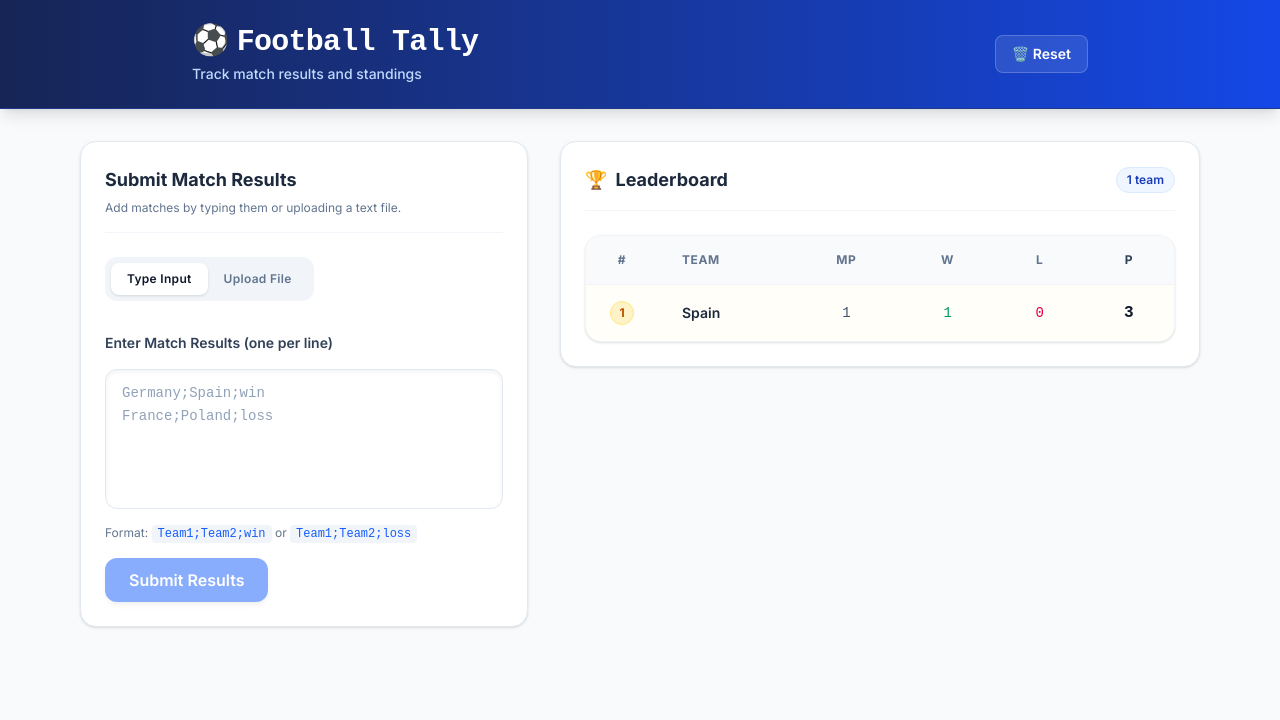
Home Page Component › switches tabs between string input and file upload
This screenshot has width=1280, height=720.
Expected: the text "Spain" is shown, [658,284,793,341]
Expected: the text box labelled "Enter Match Results (one per line)" is shown, [105,369,503,509]
Note: Click "Upload File" tab
Click the button "Upload File" at (258, 279), box [208,263,308,295]
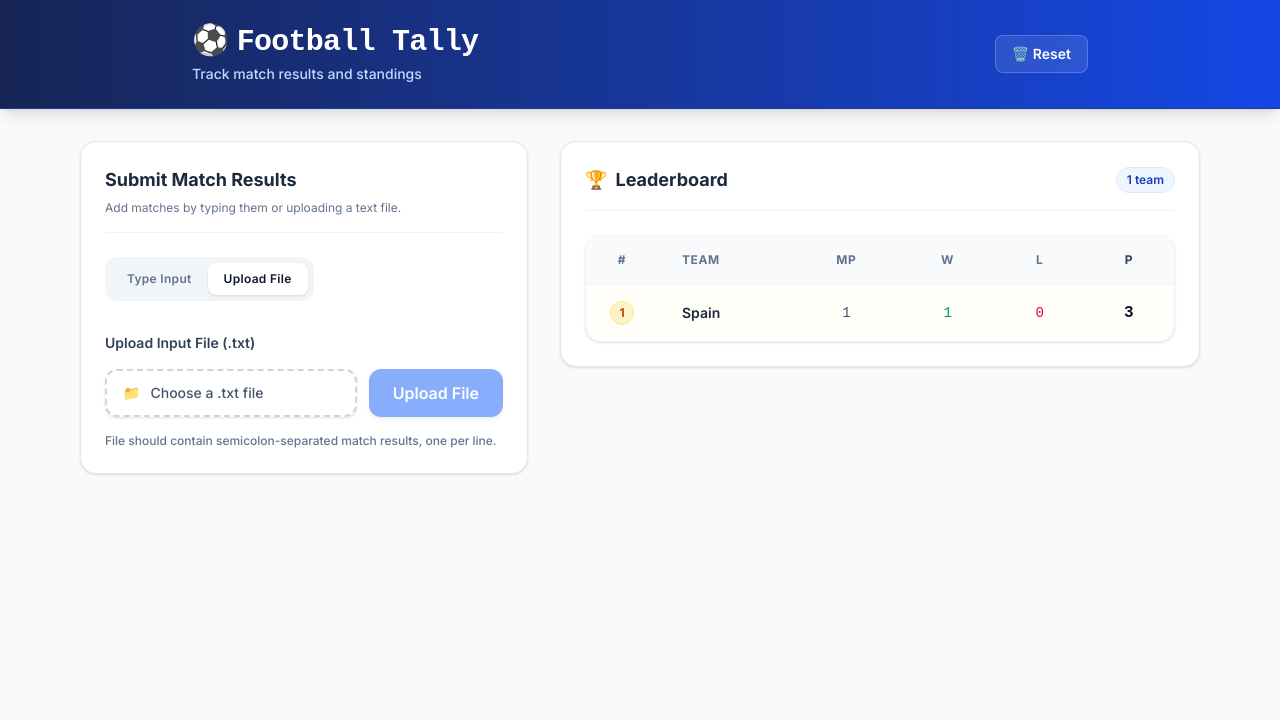
Result: the file field labelled "Upload Input File (.txt)" is shown at [105,334,255,351]
Result: the label labelled "Enter Match Results" is gone
